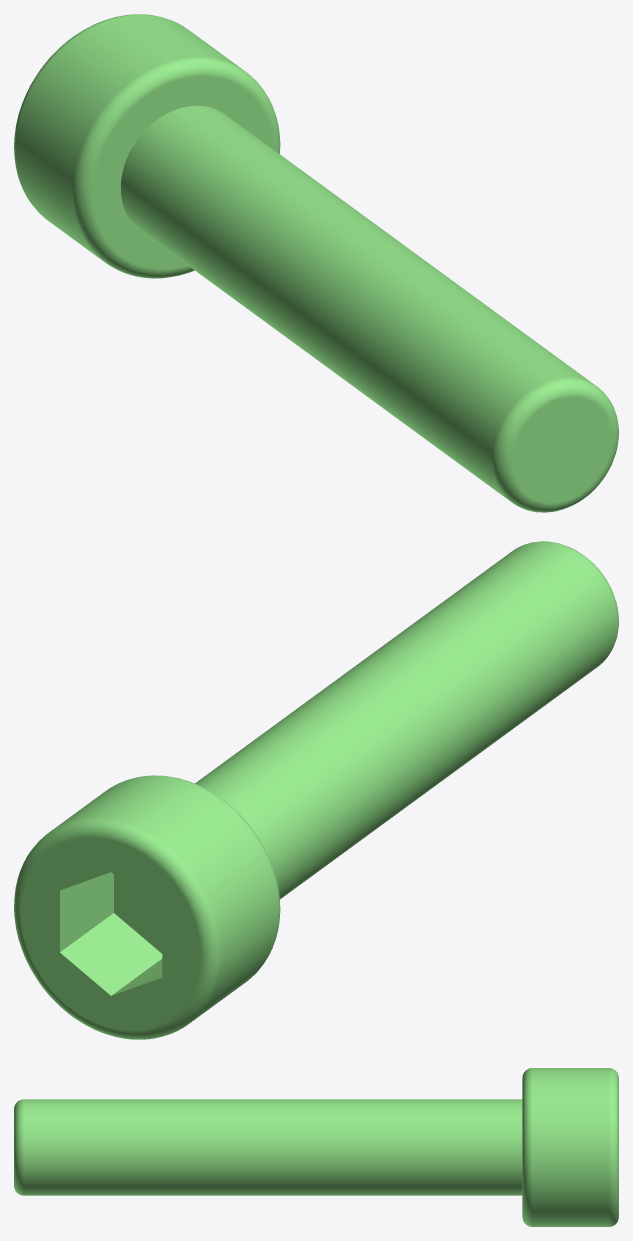
The model's file is socket-head-cap-screw.glb.
The picture shows the model from 3 angles, top to bottom: view 1: azimuth 30°, elevation 25°; view 2: azimuth 150°, elevation 25°; view 3: azimuth 270°, elevation 25°; orthographic projection. The views are drawn at different scales.
Size of the model in its own units: 0.00795 by 0.00795 by 0.0302.
